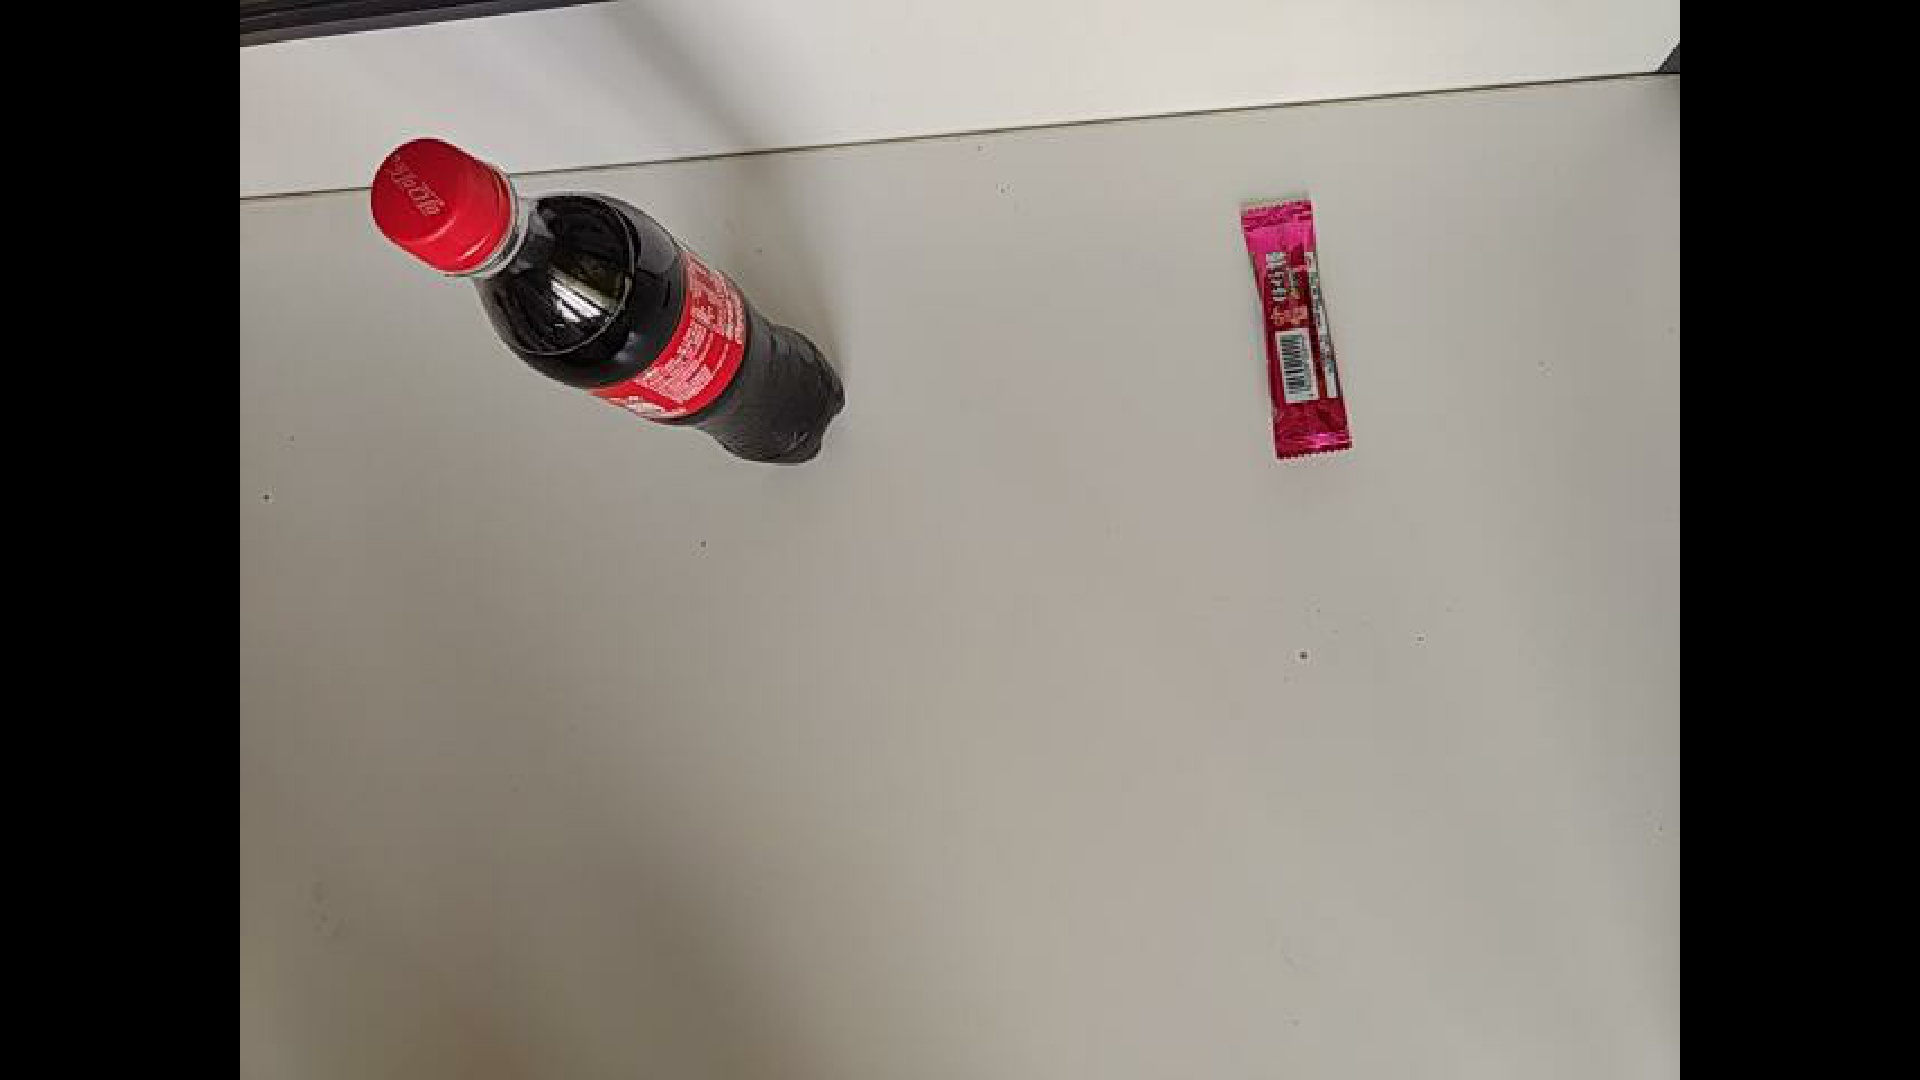cola: (247, 75, 880, 402)
sugar: (1232, 200, 1383, 465)
